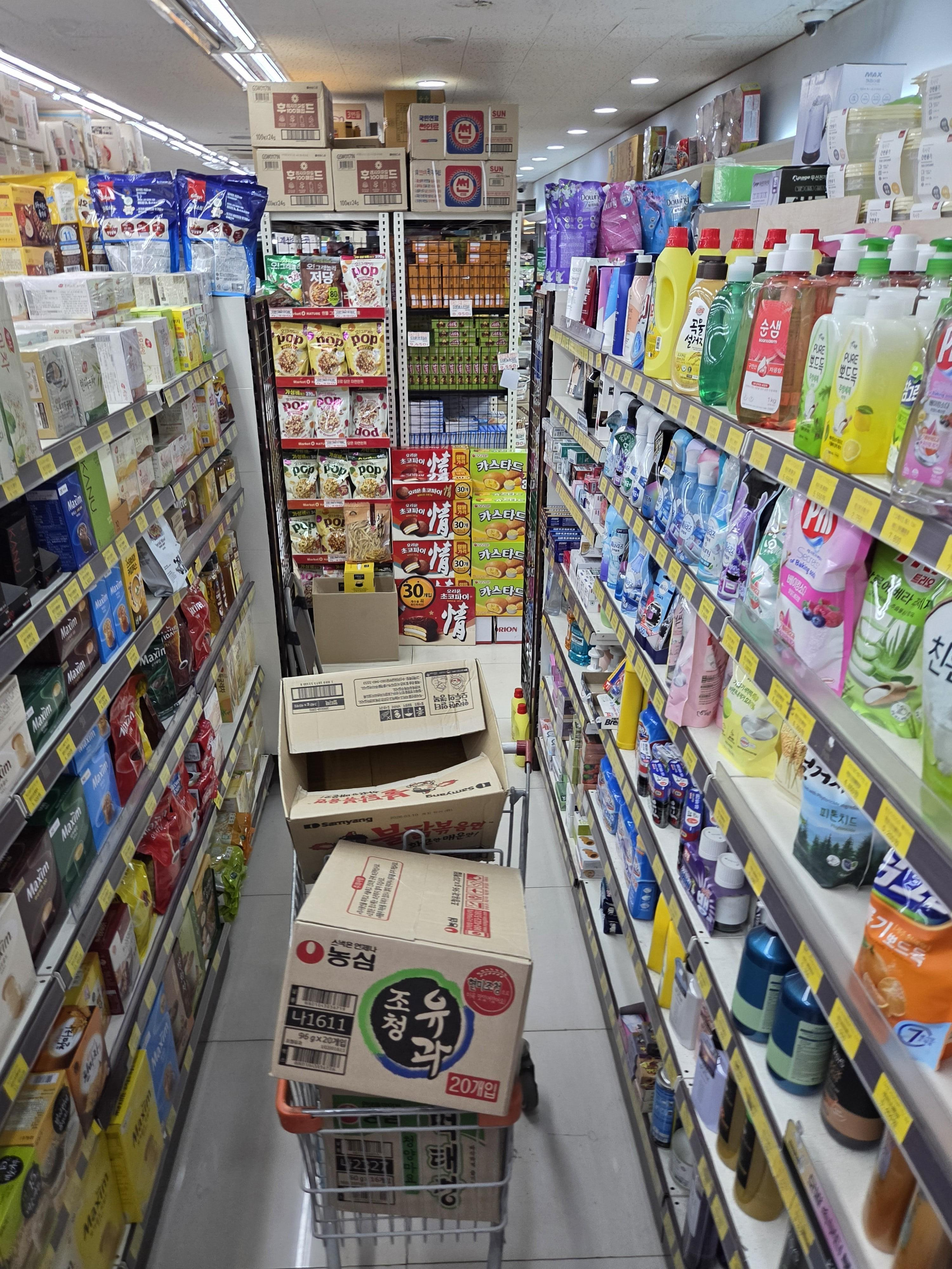fully_cart: (268, 647, 557, 1264)
